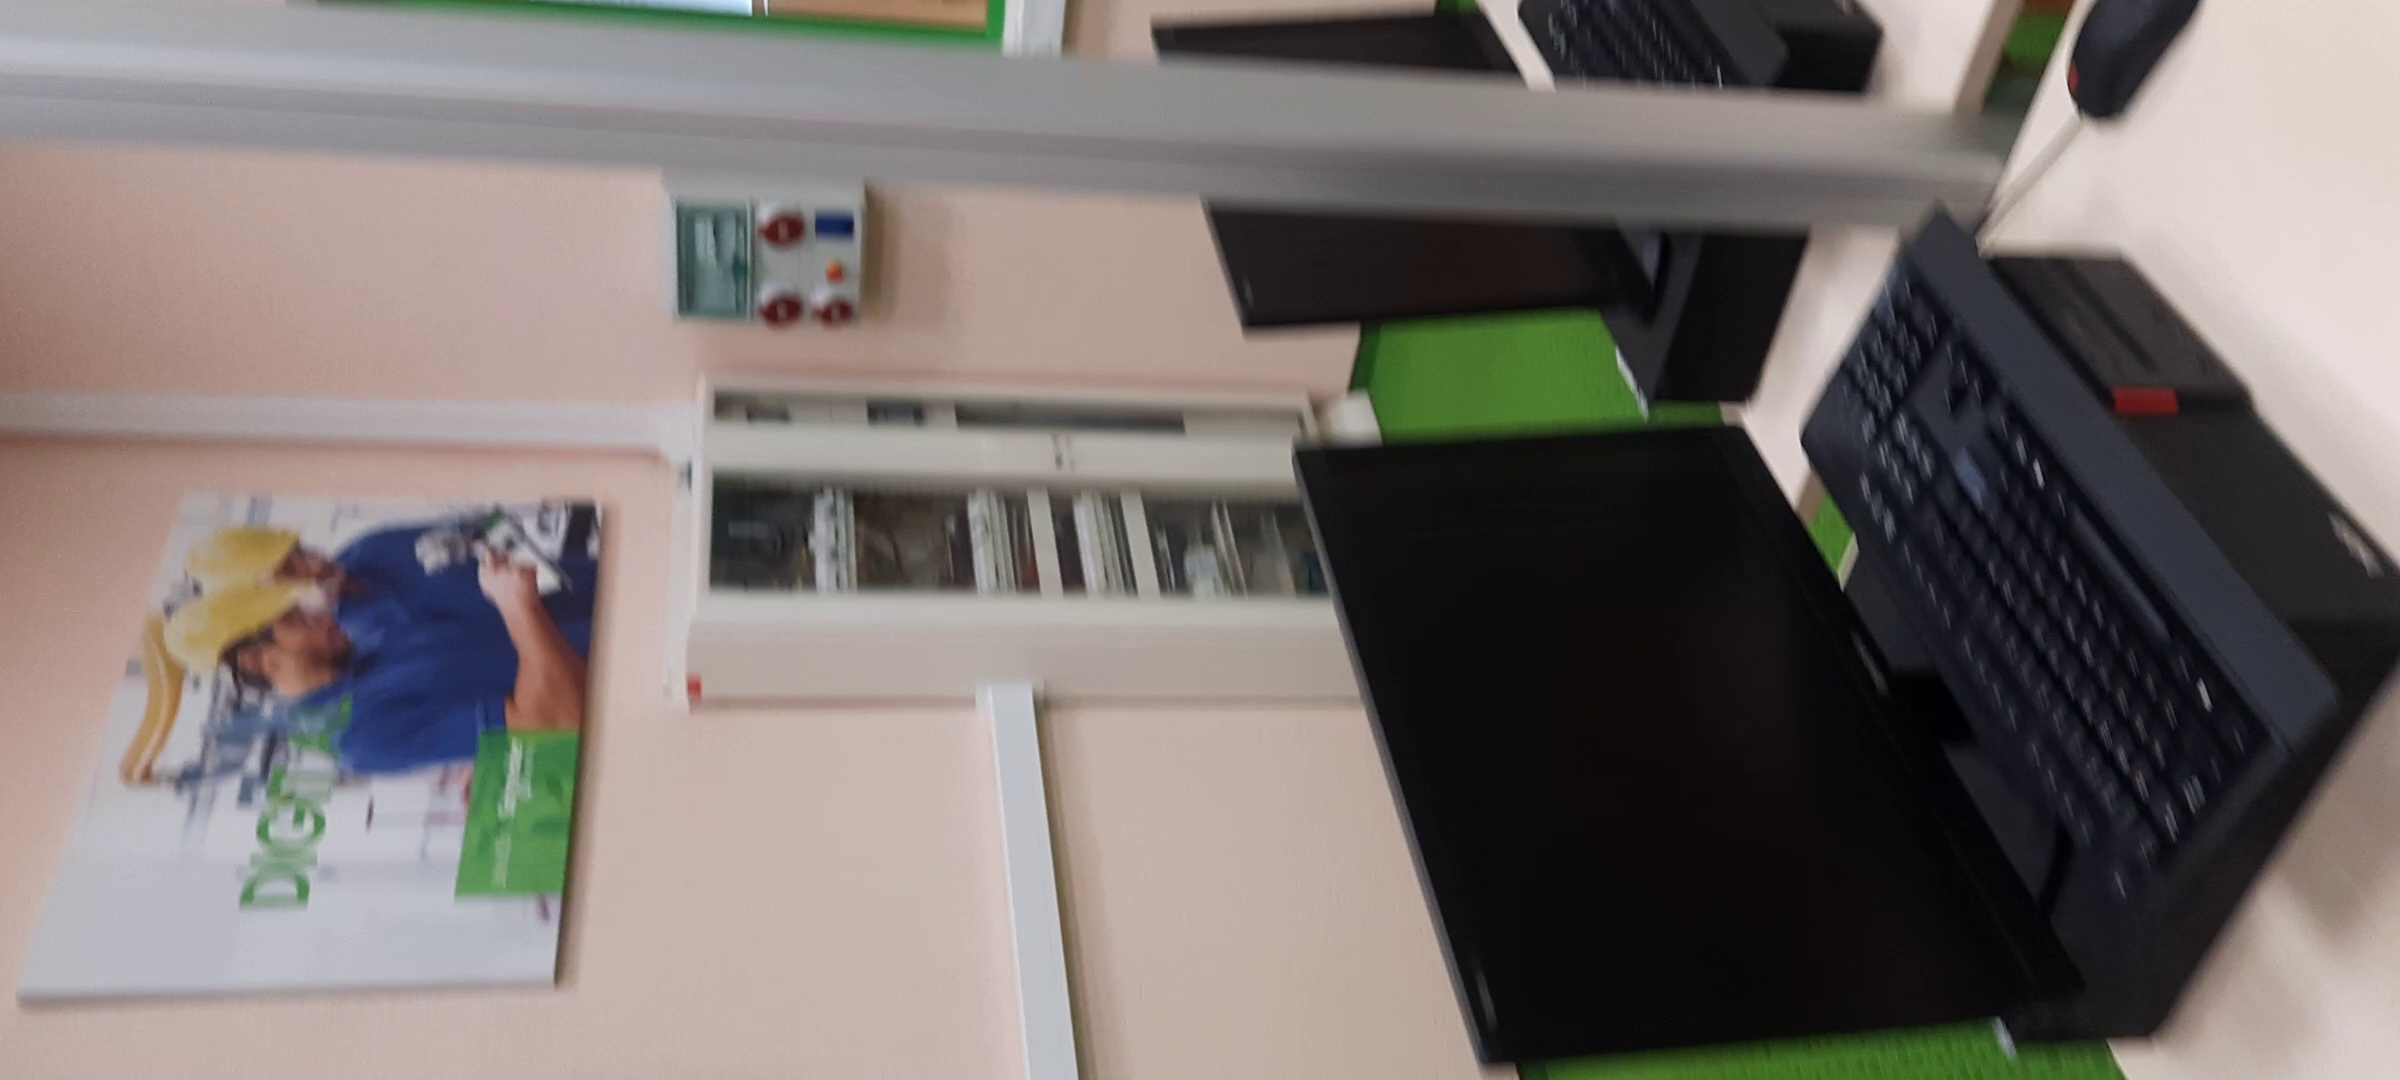stand1: (683, 378, 1381, 695)
